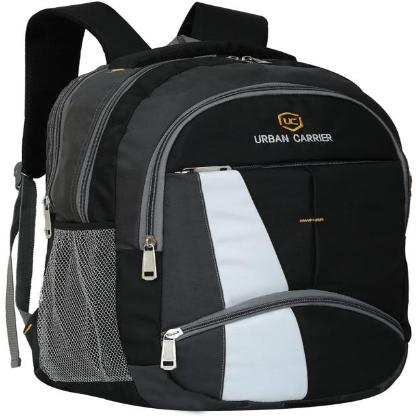bag: (7, 0, 413, 416)
